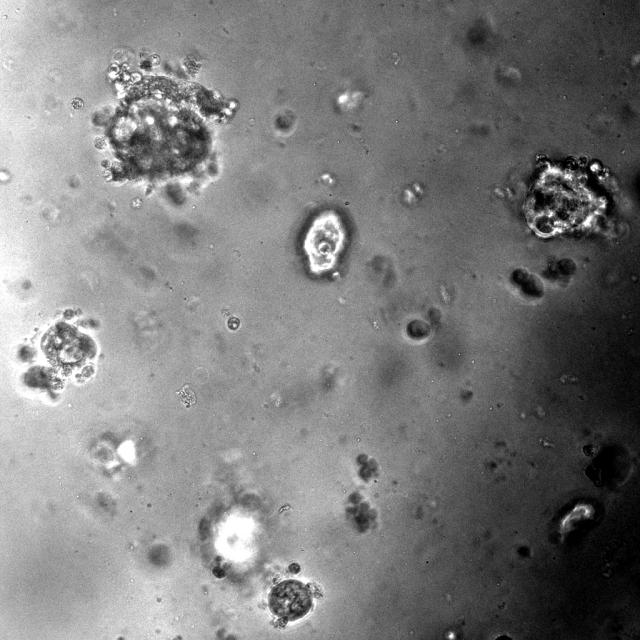organoid: (92, 47, 238, 205), (502, 154, 628, 240), (16, 309, 100, 404), (296, 203, 352, 279), (266, 562, 323, 627), (582, 443, 631, 488), (346, 491, 377, 533), (541, 256, 576, 286), (511, 268, 543, 297), (357, 453, 378, 482), (406, 319, 430, 339), (212, 555, 226, 579)
